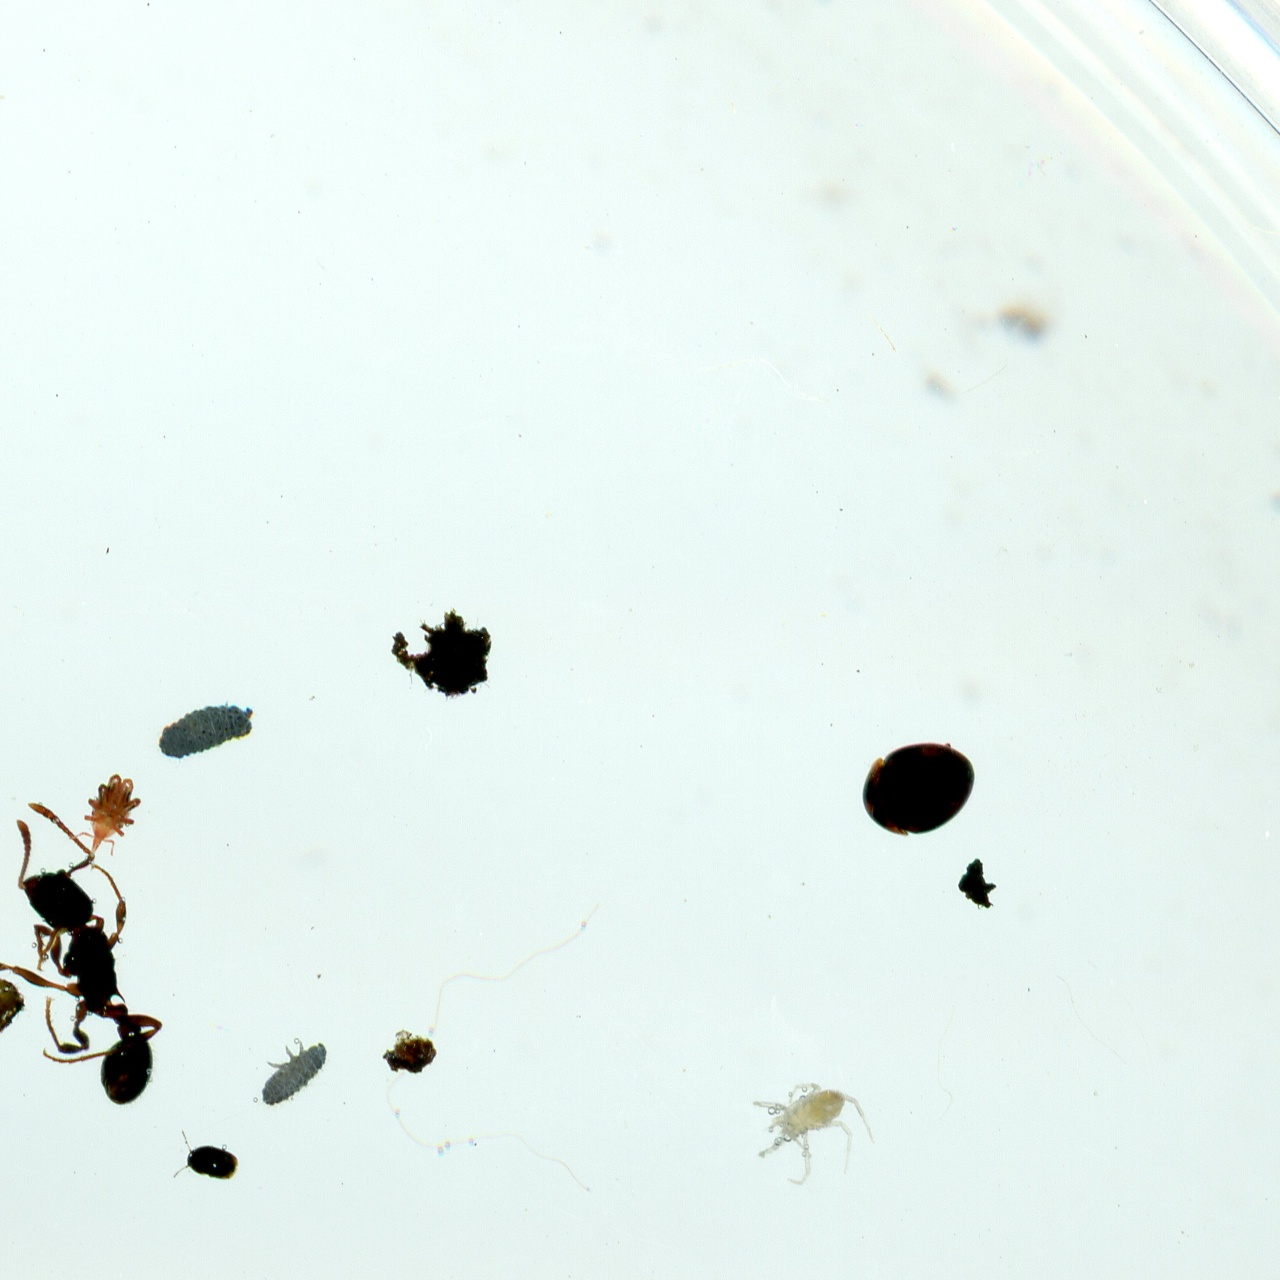arthropod: (0, 801, 164, 1110), (746, 1063, 881, 1191), (852, 736, 986, 841), (240, 1021, 342, 1117), (70, 762, 150, 864), (155, 699, 260, 760), (172, 1130, 239, 1180)
